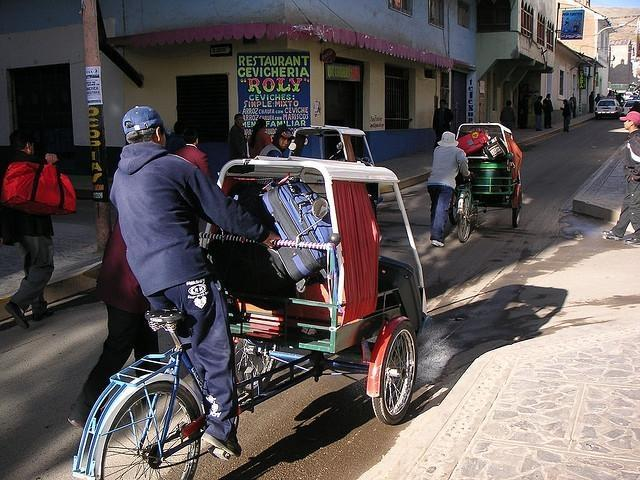bicycle: (70, 150, 432, 476)
car: (594, 99, 622, 119), (622, 100, 640, 116)
